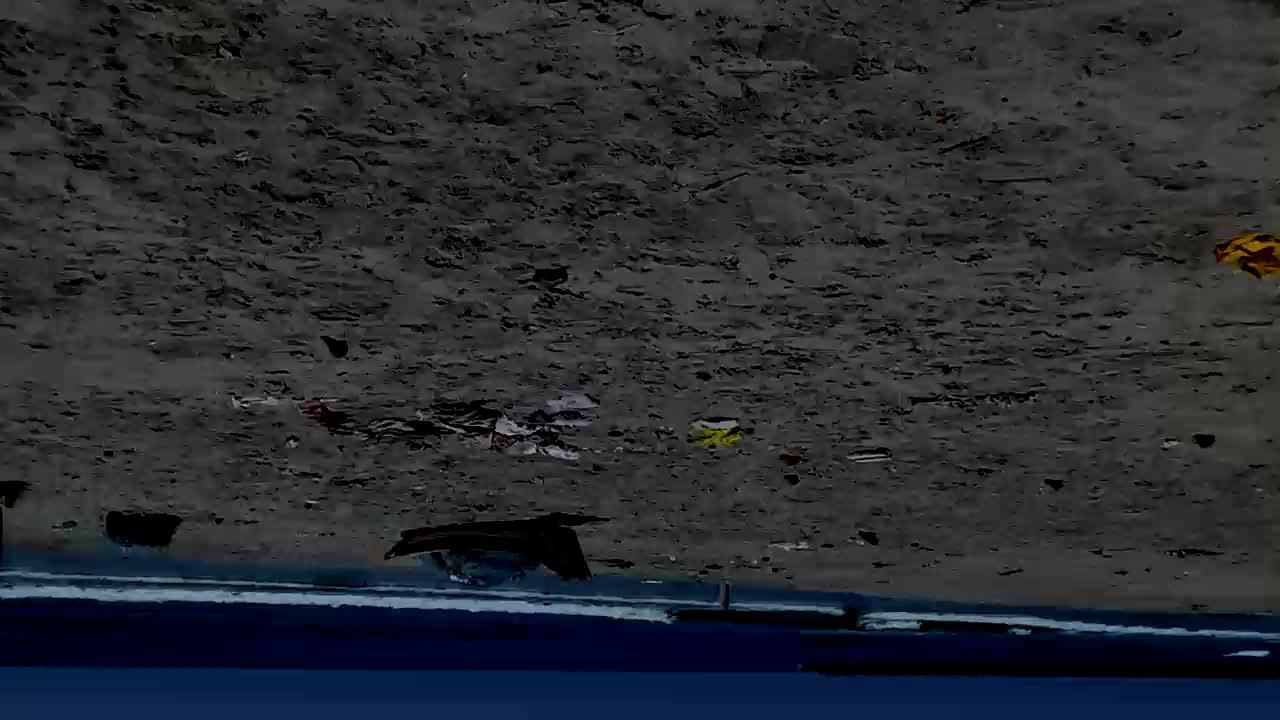large collection of objects: (386, 523, 592, 586), (103, 512, 182, 554)
obj: (224, 393, 597, 464), (1213, 229, 1279, 282), (686, 419, 758, 452), (1, 479, 26, 514), (319, 335, 352, 359), (531, 269, 566, 291), (844, 450, 890, 465), (766, 540, 818, 552), (720, 575, 733, 615), (1192, 435, 1216, 450), (858, 532, 876, 549), (1044, 480, 1062, 496), (778, 454, 799, 465), (789, 472, 804, 487)
sand/background: (1, 546, 1279, 719)
